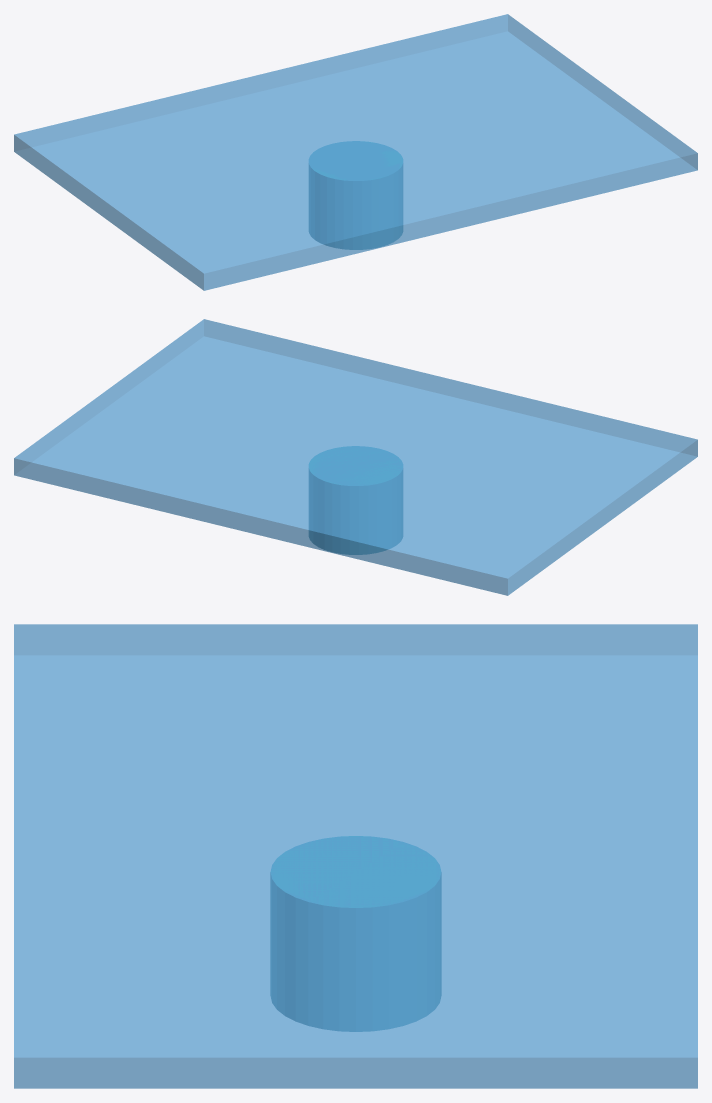
The model's file is table.glb.
The picture shows the model from 3 angles, top to bottom: view 1: azimuth 30°, elevation 25°; view 2: azimuth 150°, elevation 25°; view 3: azimuth 270°, elevation 25°; orthographic projection. The views are drawn at different scales.
Visible parts, largest first — view 1: top, leg; view 2: top, leg; view 3: top, leg.
Part boxes in pixels (<box>): top: <box>14,14,697,290</box>; leg: <box>309,141,403,249</box>; top: <box>14,319,697,595</box>; leg: <box>308,446,402,554</box>; top: <box>14,624,697,1088</box>; leg: <box>270,836,441,1031</box>.
Bounding box in the file's own units: 6 × 1 × 4.
